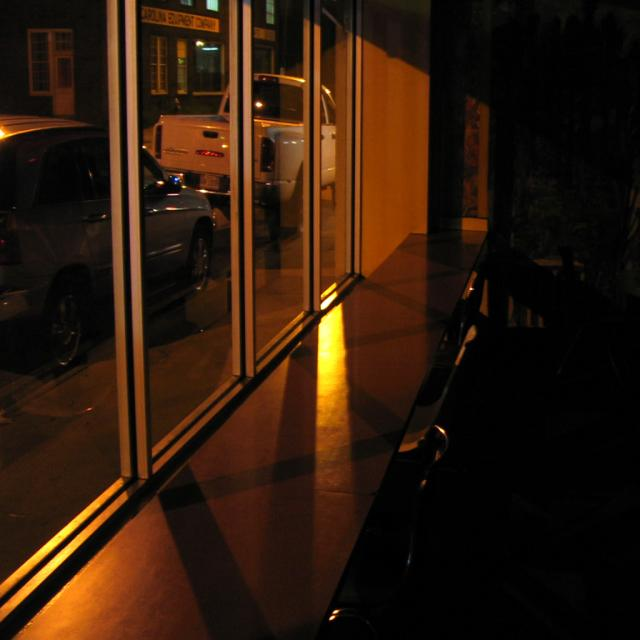chair: (1, 109, 213, 403)
